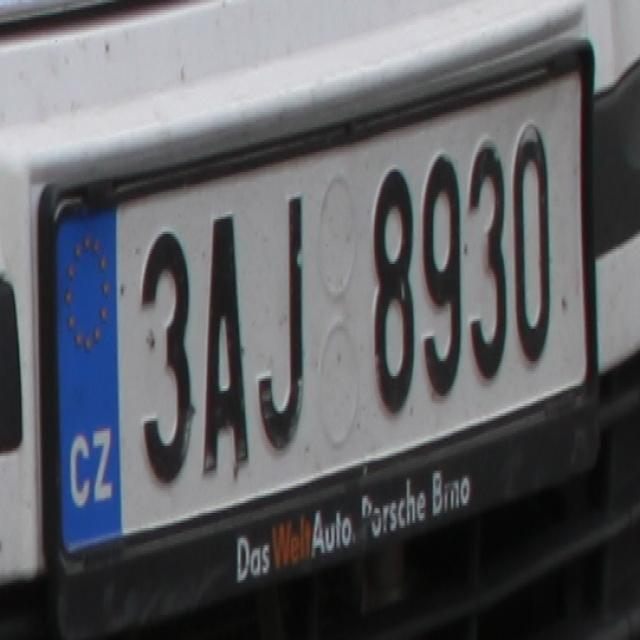0: (511, 120, 553, 363)
3: (140, 229, 195, 486), (467, 139, 509, 386)
8: (371, 164, 416, 413)
9: (420, 152, 461, 396)
A: (199, 209, 248, 466)
